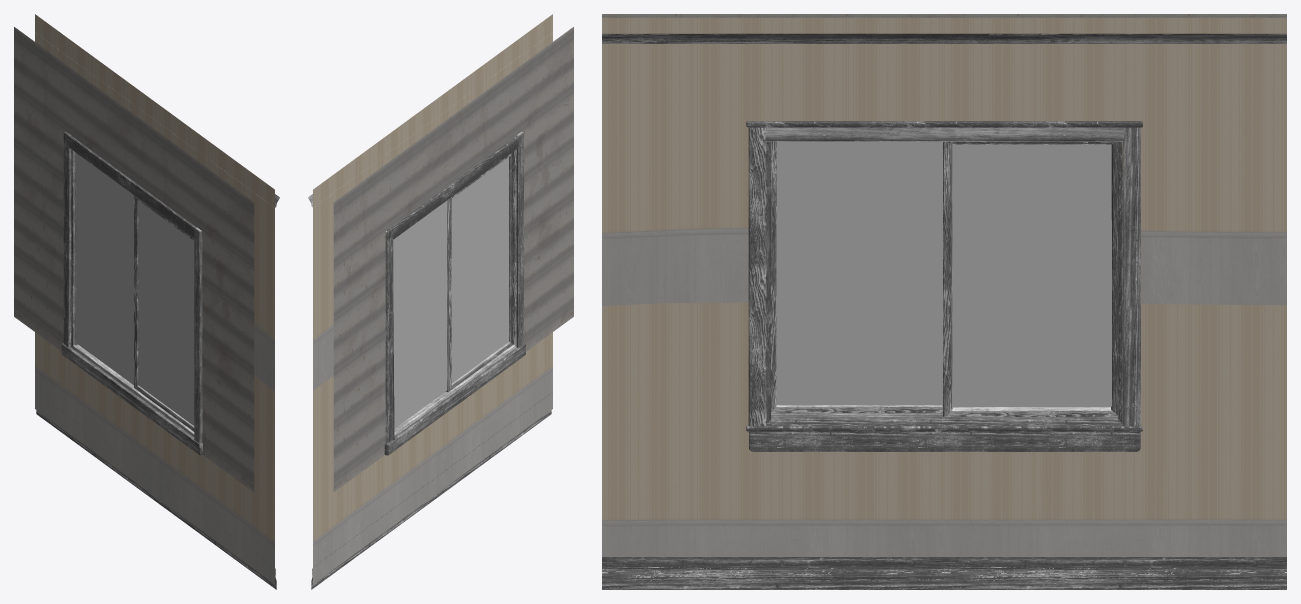
File: SM_Window_Floor2_E1_400.fbx
3 views of the same model, side by side, from view 1: azimuth 30°, elevation 25°; view 2: azimuth 150°, elevation 25°; view 3: azimuth 270°, elevation 25° (orthographic). The views are drawn at different scales.
Parts seen in each view (by area): view 1: SM_Window_Floor2_E1_400_LOD0; view 2: SM_Window_Floor2_E1_400_LOD0; view 3: SM_Window_Floor2_E1_400_LOD0.
Boxes of the visible parts, x1,y1,x2,y2 form: SM_Window_Floor2_E1_400_LOD0: (14, 14, 279, 589); SM_Window_Floor2_E1_400_LOD0: (308, 14, 573, 589); SM_Window_Floor2_E1_400_LOD0: (602, 14, 1286, 589).
Bounding box in the file's own units: 19.75 × 280 × 258.
Materials: 5 (4 with a texture image).
